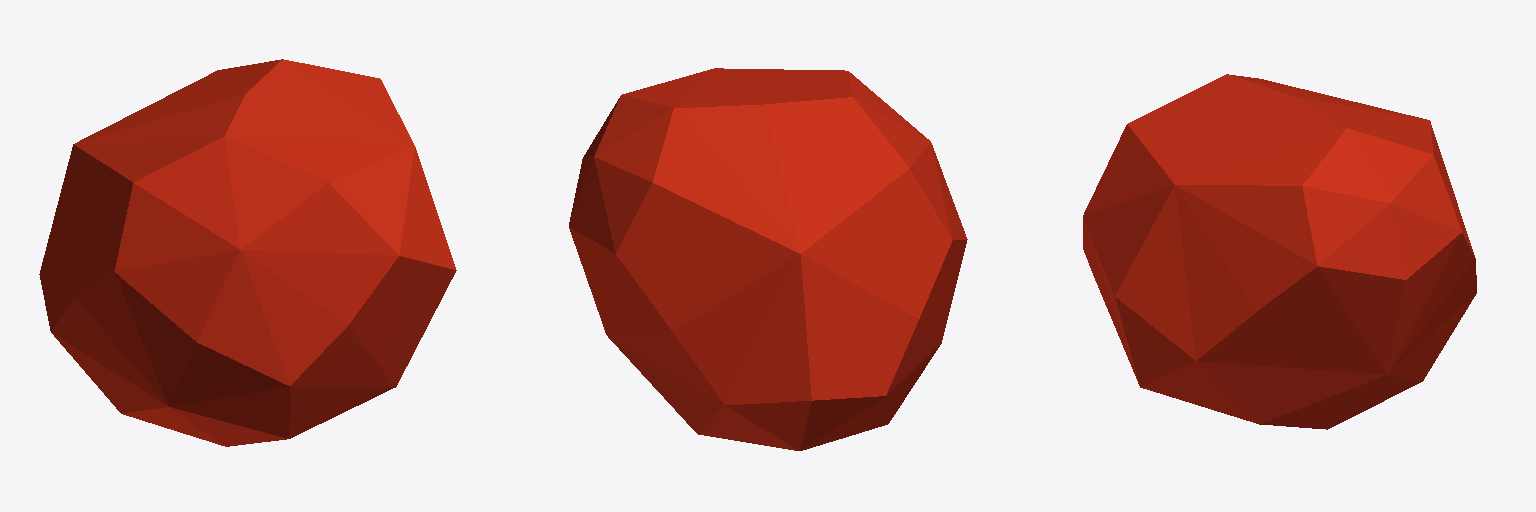
File: stone.obj
3 renders of one model, left to right at view 1: azimuth 30°, elevation 25°; view 2: azimuth 150°, elevation 25°; view 3: azimuth 270°, elevation 25°, orthographic.
Visible parts, largest first — view 1: Cube; view 2: Cube; view 3: Cube.
Boxes of the visible parts, <box> form: Cube: <box>39,59,456,446</box>; Cube: <box>569,68,967,450</box>; Cube: <box>1083,74,1476,429</box>.
Bounding box in the file's own units: 5.74 × 5.19 × 5.89.